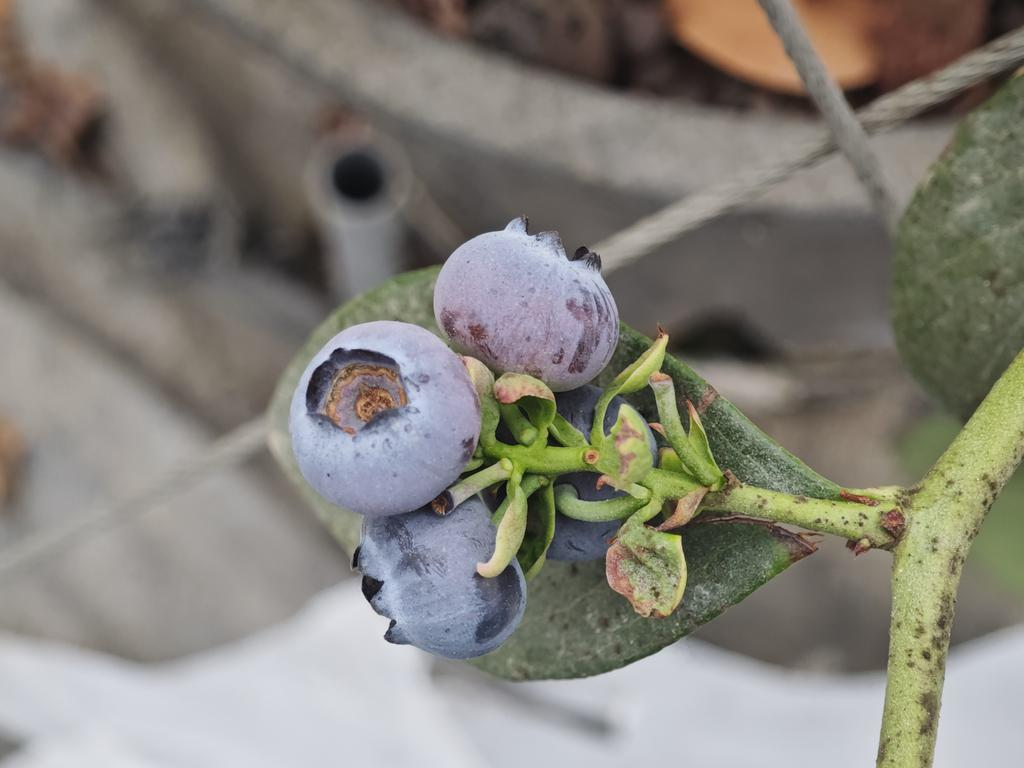RipeBlueBerry: (427, 200, 626, 419), (259, 319, 492, 497), (336, 499, 518, 668)
